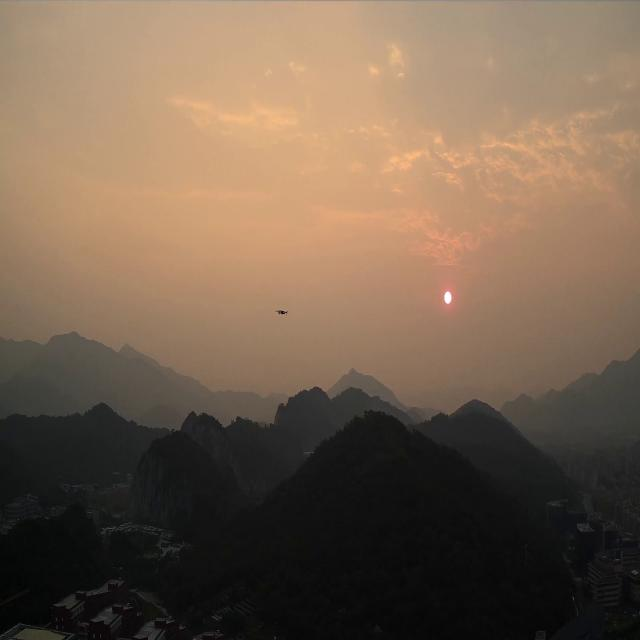UAV: (275, 308, 289, 316)
